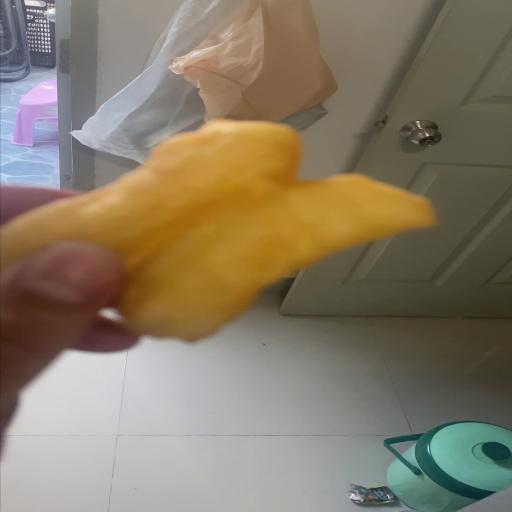street_golden_good: (0, 121, 435, 341)
